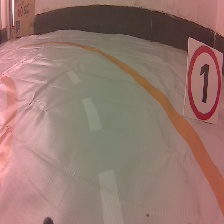limit: (182, 34, 224, 127)
